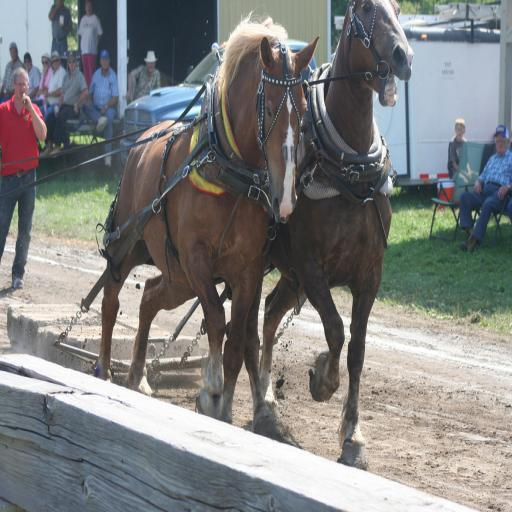horse: (96, 10, 322, 442), (224, 0, 417, 475)
